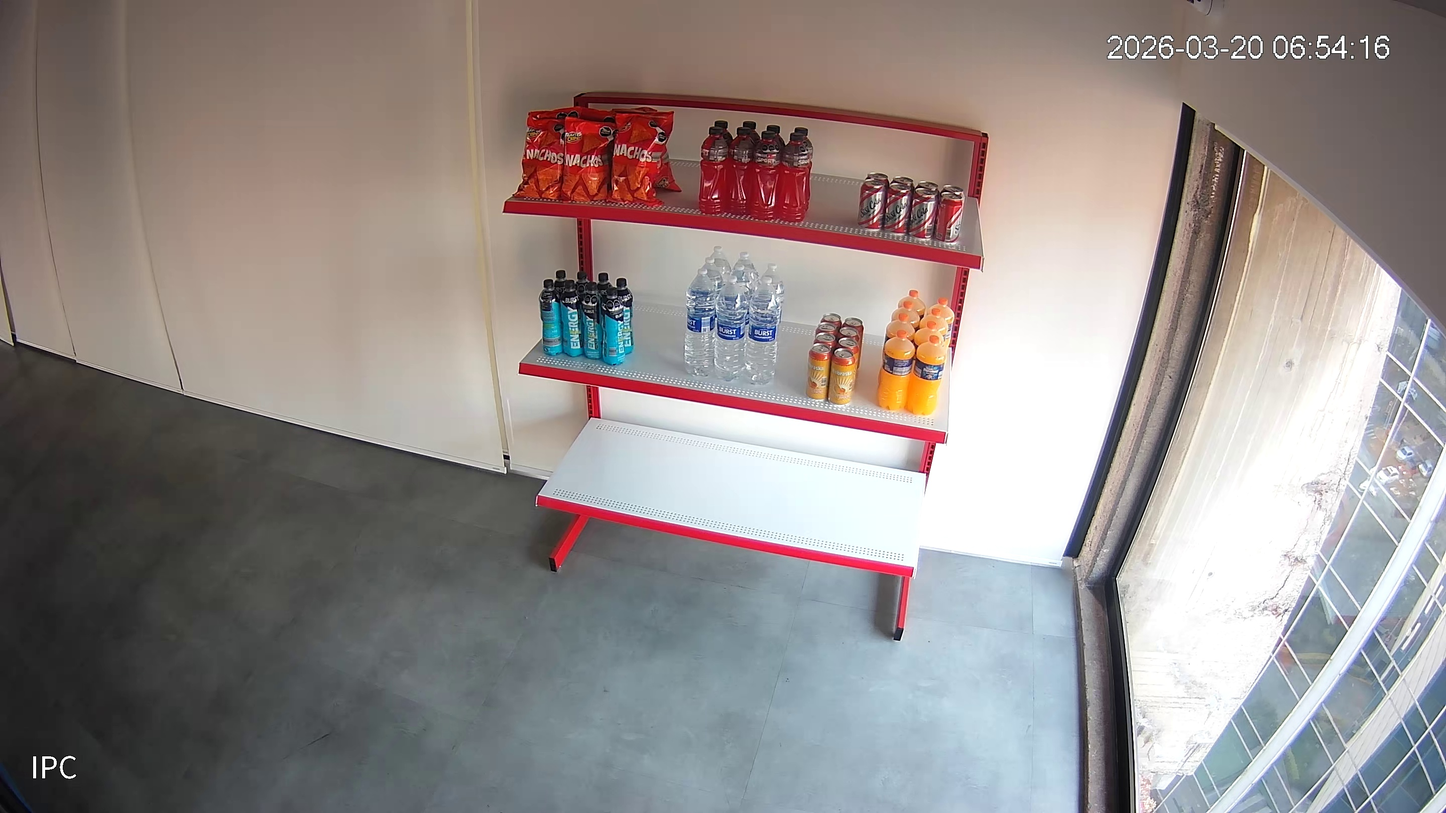agua_burst: (744, 277, 777, 384), (685, 269, 716, 376)
burst_energetica_roja: (776, 132, 809, 221), (698, 127, 729, 214)
burst_energy: (538, 279, 563, 355), (602, 288, 625, 366)
nachos_naturasol: (608, 111, 674, 205), (529, 106, 581, 120)
nebraska_mango: (806, 343, 831, 400), (820, 314, 842, 330)
sisi_cola: (857, 180, 886, 231), (935, 193, 962, 242)
sun_paradise_naranja: (878, 331, 916, 410), (927, 298, 954, 352)
